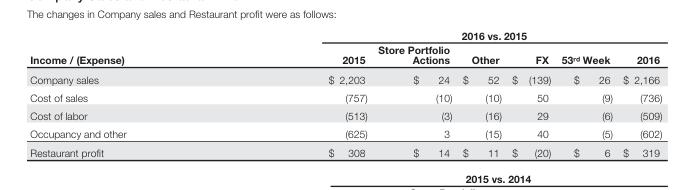table: (29, 28, 661, 158)
table column: (29, 28, 226, 158), (226, 28, 372, 158), (372, 28, 456, 158), (555, 28, 617, 158), (456, 28, 506, 158), (506, 28, 555, 158), (617, 28, 661, 158)
table column header: (29, 28, 661, 69)
table row: (29, 41, 661, 69), (29, 105, 661, 124), (29, 69, 661, 87), (29, 87, 661, 105), (29, 124, 661, 142), (29, 142, 661, 158), (29, 28, 661, 41)
table spanning cell: (29, 28, 226, 69), (226, 28, 661, 41)
